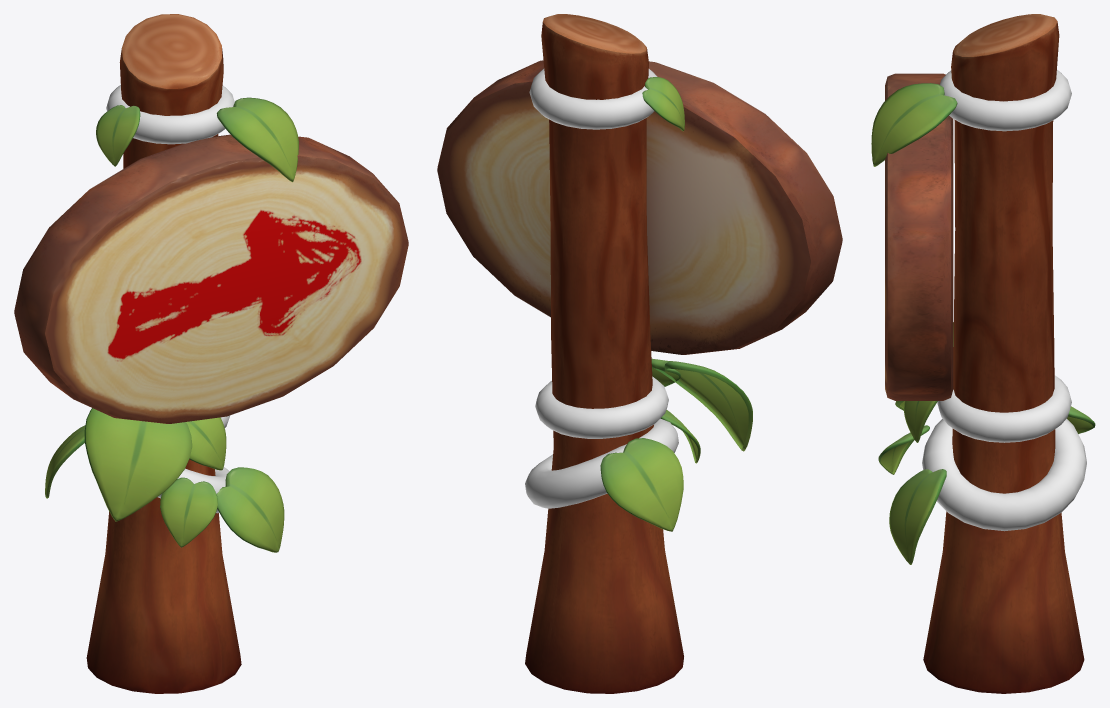
File: TreeSign.fbx
The picture shows the model from 3 angles, left to right: view 1: azimuth 30°, elevation 25°; view 2: azimuth 150°, elevation 25°; view 3: azimuth 270°, elevation 25°; orthographic projection. The views are drawn at different scales.
Parts seen in each view (by area): view 1: 2_low, 1_low, 4_low003, 4_low005, 4_low001, Torus003, 4_low006, 4_low002, 4_low004, 4_low007; view 2: 1_low, 2_low, Torus003, 4_low007, 4_low003, 4_low002; view 3: 1_low, 2_low, Torus003, 4_low001, 4_low005, 4_low004, 4_low006, 4_low007.
Part boxes in pixels (x1,y1,x2,y2): 2_low: (14,134,408,423); 1_low: (86,14,241,693); 4_low003: (84,408,192,521); 4_low005: (216,467,284,552); 4_low001: (216,97,298,182); Torus003: (106,84,234,513); 4_low006: (160,477,217,547); 4_low002: (96,105,140,166); 4_low004: (186,417,226,470); 4_low007: (45,425,85,498); 1_low: (525,14,683,693); 2_low: (437,60,842,354); Torus003: (525,68,678,508); 4_low007: (600,438,683,531); 4_low003: (651,358,752,451); 4_low002: (642,77,684,131); 1_low: (923,14,1084,693); 2_low: (885,73,953,400); Torus003: (922,70,1086,531); 4_low001: (871,83,957,166); 4_low005: (889,469,946,564); 4_low004: (904,401,937,442); 4_low006: (878,425,929,474); 4_low007: (1067,406,1095,433).
Bounding box in the file's own units: 1.31 × 2.12 × 0.665.
